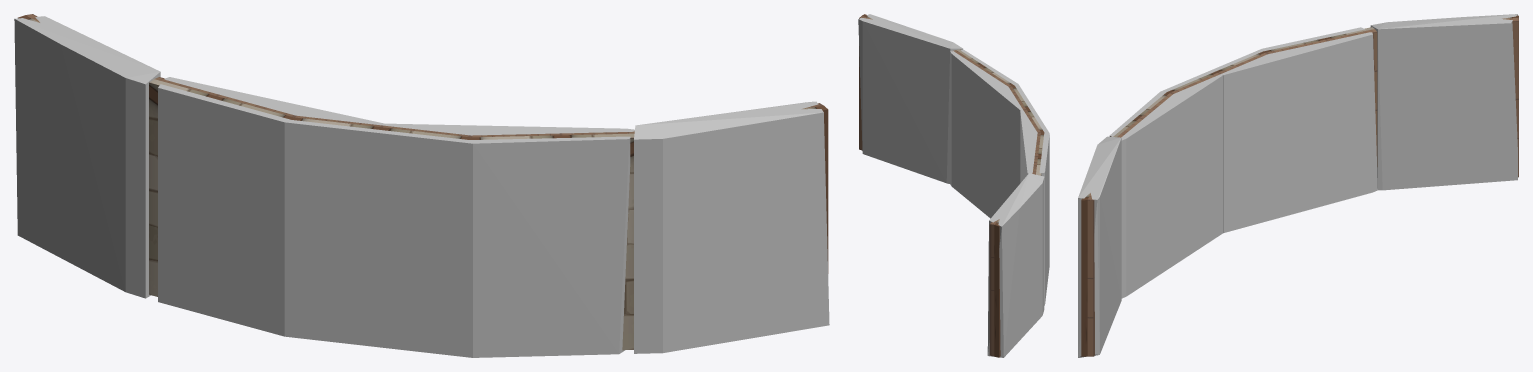
The model's file is SM_Bld_Wall_Curved_02.fbx.
The picture shows the model from 3 angles, left to right: view 1: azimuth 30°, elevation 25°; view 2: azimuth 150°, elevation 25°; view 3: azimuth 270°, elevation 25°; orthographic projection. The views are drawn at different scales.
Parts seen in each view (by area): view 1: SM_Bld_Wall_Curved_02_ConvexHulls, SM_Bld_Wall_Curved_02; view 2: SM_Bld_Wall_Curved_02_ConvexHulls, SM_Bld_Wall_Curved_02; view 3: SM_Bld_Wall_Curved_02_ConvexHulls, SM_Bld_Wall_Curved_02.
Part boxes in pixels (box(x1,y1,x2,y2)): SM_Bld_Wall_Curved_02_ConvexHulls: box(14, 16, 829, 357); SM_Bld_Wall_Curved_02: box(18, 14, 828, 350); SM_Bld_Wall_Curved_02_ConvexHulls: box(858, 14, 1049, 357); SM_Bld_Wall_Curved_02: box(859, 14, 1044, 357); SM_Bld_Wall_Curved_02_ConvexHulls: box(1078, 14, 1517, 357); SM_Bld_Wall_Curved_02: box(1081, 15, 1518, 356).
Bounding box in the file's own units: 767 × 767 × 309.
Materials: 3 (2 with a texture image).
